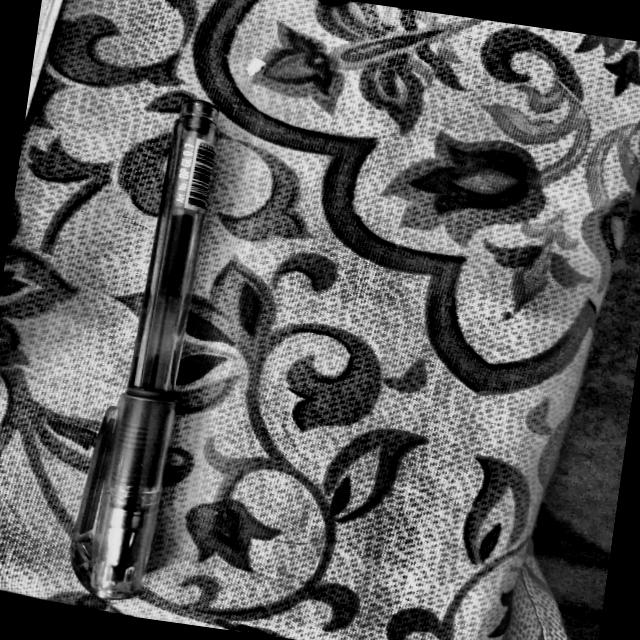Pen: (38, 66, 272, 618)
